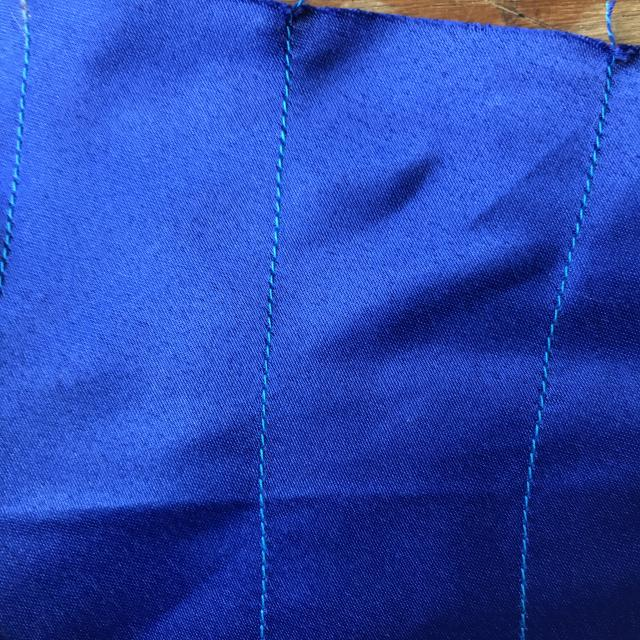good: (246, 192, 292, 380)
